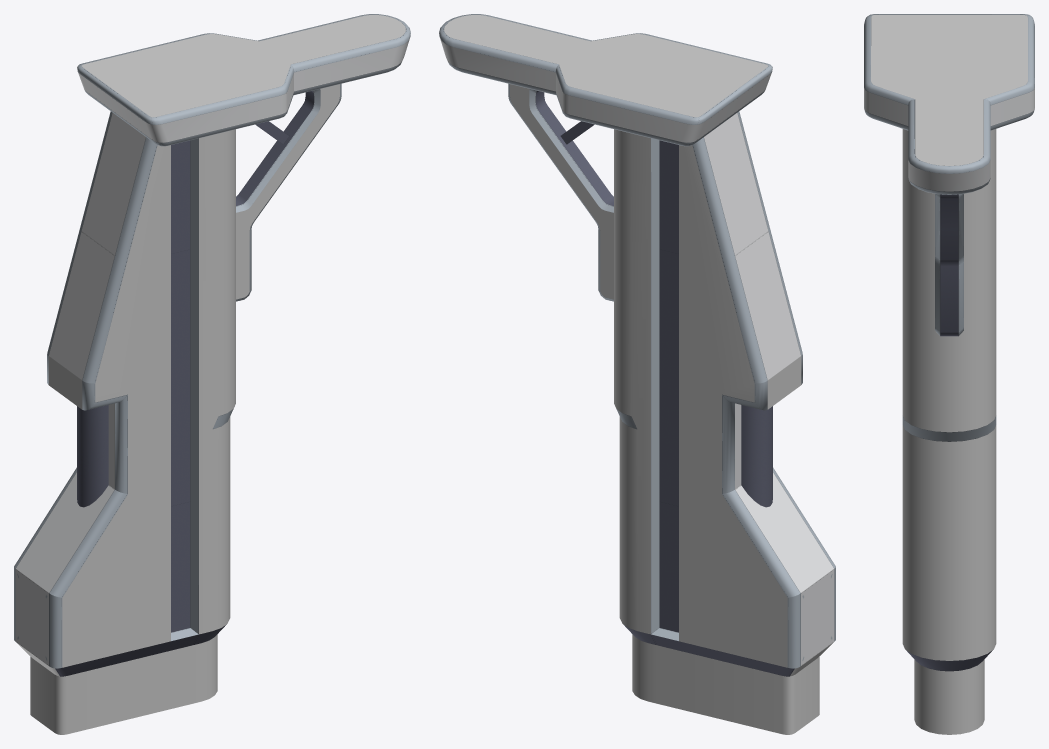
Rendered from Antena_03.FBX.
3 renders of one model, left to right at view 1: azimuth 30°, elevation 25°; view 2: azimuth 150°, elevation 25°; view 3: azimuth 270°, elevation 25°, orthographic. The views are drawn at different scales.
Visible parts, largest first — view 1: Antena_03; view 2: Antena_03; view 3: Antena_03.
Boxes of the visible parts, left/top/right/bottom form: Antena_03: left=14, top=14, right=410, bottom=734; Antena_03: left=439, top=14, right=835, bottom=734; Antena_03: left=864, top=14, right=1034, bottom=734.
Size of the model in its own units: 13.35 by 21.04 by 4.87.
